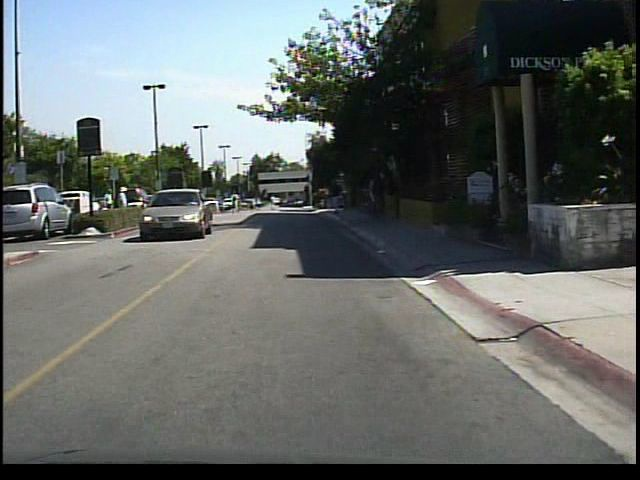person: (366, 166, 387, 223), (116, 183, 135, 228), (329, 174, 348, 218), (163, 181, 181, 224), (103, 186, 118, 227), (231, 189, 243, 216), (267, 193, 281, 216)
